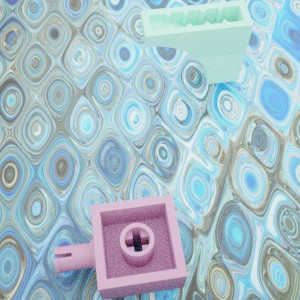lego: (53, 194, 187, 300), (140, 0, 253, 84)
